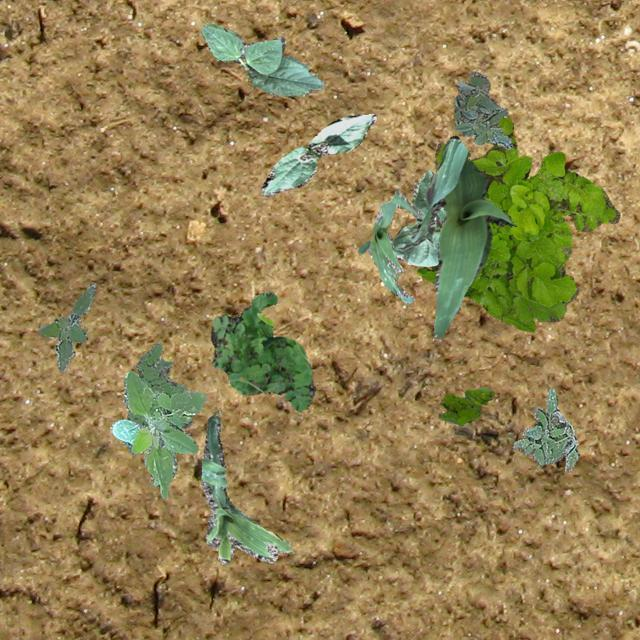crop: (410, 134, 514, 338), (200, 412, 292, 562), (108, 370, 205, 498), (260, 112, 376, 196), (200, 22, 322, 96), (356, 188, 422, 302), (390, 168, 446, 266)
weed: (416, 117, 620, 330), (210, 290, 314, 410), (126, 342, 190, 428), (512, 388, 578, 470), (37, 284, 94, 371), (452, 70, 512, 148), (438, 386, 492, 424)
